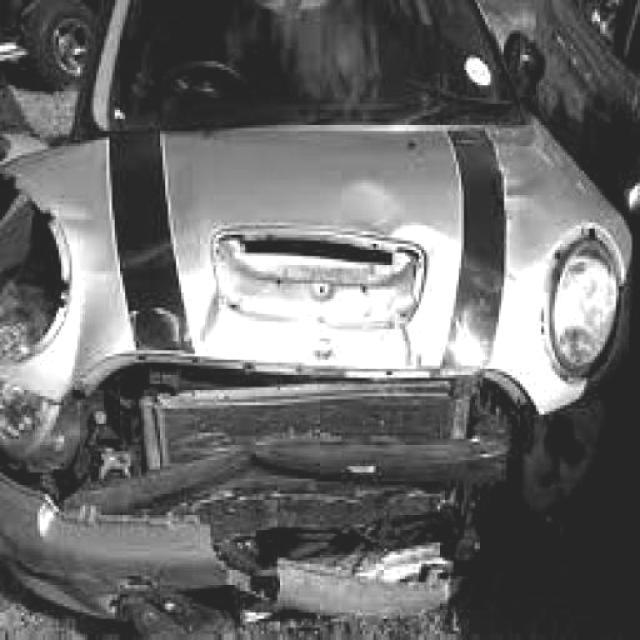car damage: (0, 154, 583, 622)
